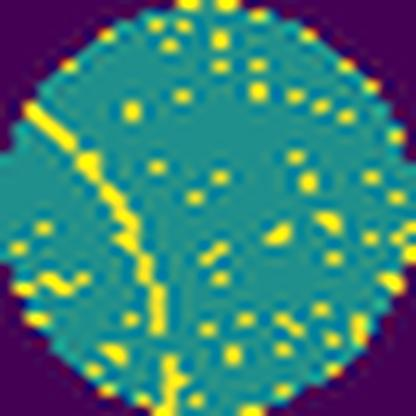Scratch: (21, 100, 173, 340), (148, 349, 196, 416)
